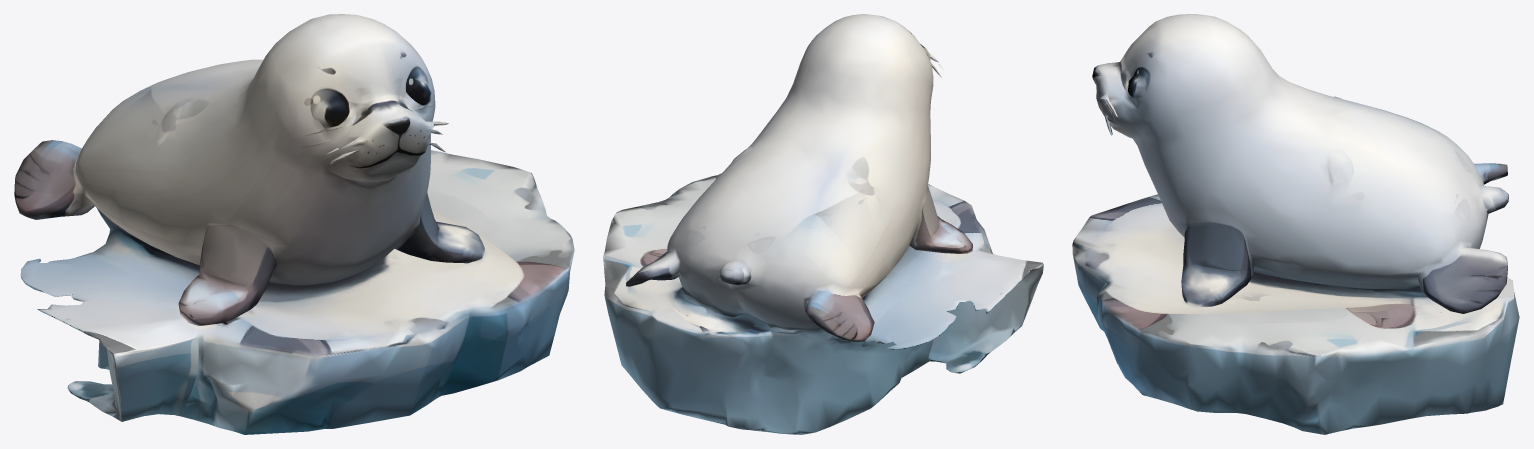
The model's file is BabySeal.obj.
3 views of the same model, side by side, from view 1: azimuth 30°, elevation 25°; view 2: azimuth 150°, elevation 25°; view 3: azimuth 270°, elevation 25° (orthographic). The views are drawn at different scales.
Parts seen in each view (by area): view 1: tripo_node_b94e3d51-959e-46e3-ba00-0400621da5d5; view 2: tripo_node_b94e3d51-959e-46e3-ba00-0400621da5d5; view 3: tripo_node_b94e3d51-959e-46e3-ba00-0400621da5d5.
Boxes of the visible parts, x1,y1,x2,y2 form: tripo_node_b94e3d51-959e-46e3-ba00-0400621da5d5: [14, 14, 574, 434]; tripo_node_b94e3d51-959e-46e3-ba00-0400621da5d5: [603, 14, 1043, 434]; tripo_node_b94e3d51-959e-46e3-ba00-0400621da5d5: [1072, 14, 1519, 434].
Bounding box in the file's own units: 0.9996 × 0.8127 × 0.9187.
1 material, 1 textured.
